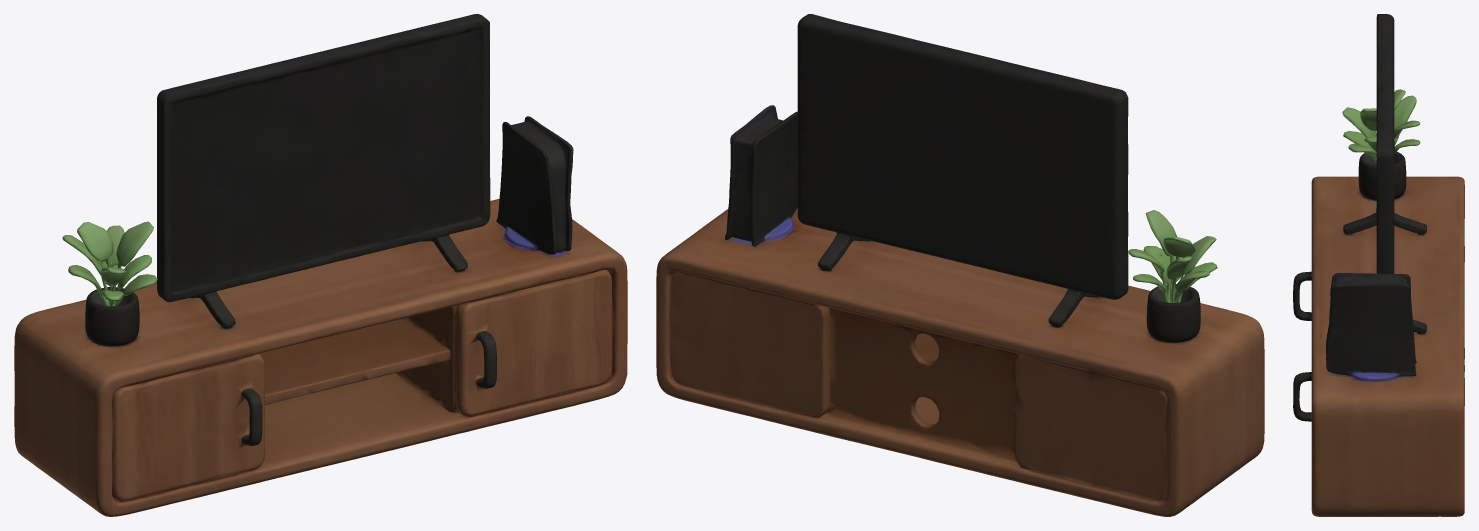
The model's file is 30-rack-tv.glb.
3 views of the same model, side by side, from view 1: azimuth 30°, elevation 25°; view 2: azimuth 150°, elevation 25°; view 3: azimuth 270°, elevation 25° (orthographic). The views are drawn at different scales.
Parts seen in each view (by area): view 1: tripo_node_199938c1-56e9-48ab-97f2-15fb73711920; view 2: tripo_node_199938c1-56e9-48ab-97f2-15fb73711920; view 3: tripo_node_199938c1-56e9-48ab-97f2-15fb73711920.
Part boxes in pixels (left/top/right/bottom): tripo_node_199938c1-56e9-48ab-97f2-15fb73711920: left=14, top=14, right=627, bottom=516; tripo_node_199938c1-56e9-48ab-97f2-15fb73711920: left=656, top=14, right=1264, bottom=516; tripo_node_199938c1-56e9-48ab-97f2-15fb73711920: left=1293, top=14, right=1464, bottom=516.
Bounding box in the file's own units: 1 × 0.6754 × 0.3191.
1 material, 1 textured.
